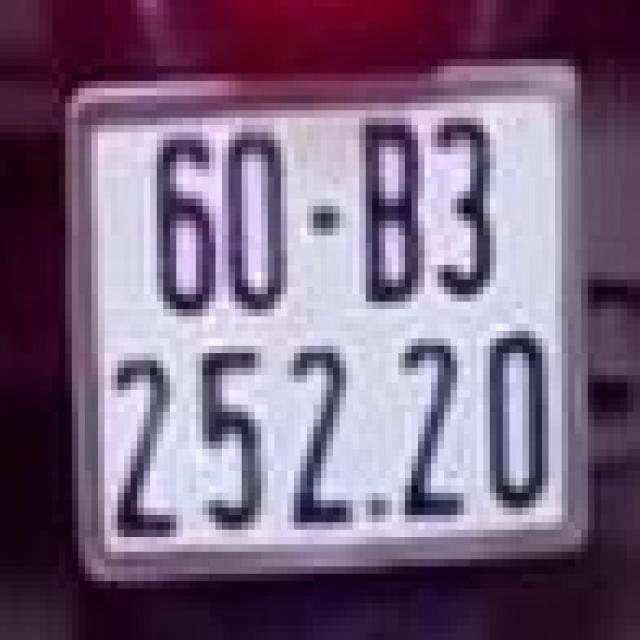0: (474, 323, 572, 530), (216, 114, 300, 320)
2: (92, 338, 190, 544), (281, 331, 366, 530), (392, 331, 470, 530)
3: (428, 107, 500, 305)
5: (193, 334, 271, 540)
6: (134, 121, 219, 320)
B: (353, 103, 431, 309)
